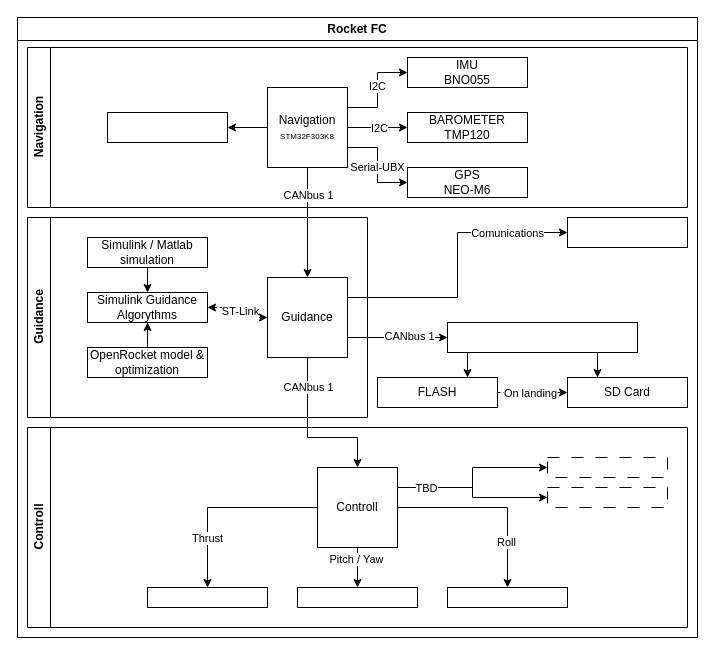
Some shapes in this 715 by 655 pixel diagram are drawn without their labels. The shapes that lost their labels are listed below. From the top down, each one's box as (x1, y1, x2, y2) in pixels, then its label:
(106, 112, 228, 142): Wirelles Debug APC220
(566, 216, 688, 248): LoRa Transciever
(446, 322, 638, 352): BLACK BOX Monitor
(546, 456, 668, 478): Air brakes
(546, 486, 668, 508): Fins
(146, 586, 268, 608): FADEC
(296, 586, 418, 608): TVC
(446, 586, 568, 608): Inertial Wheel
